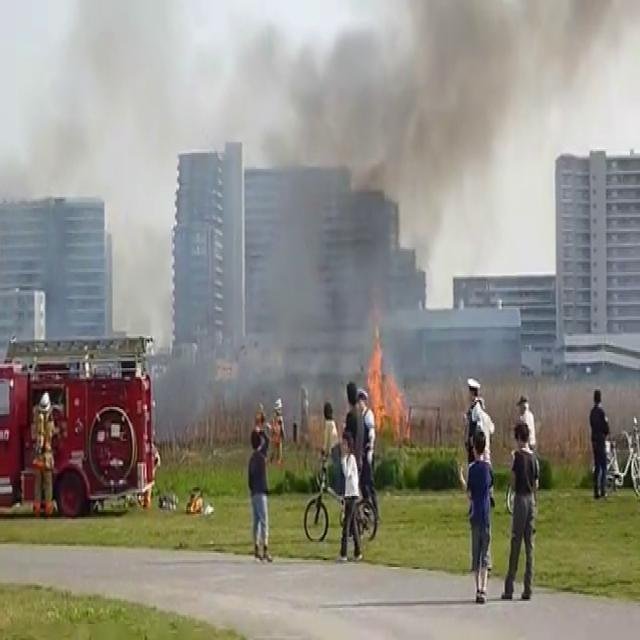Fire: (362, 326, 405, 433)
Smoke: (1, 0, 635, 373)
